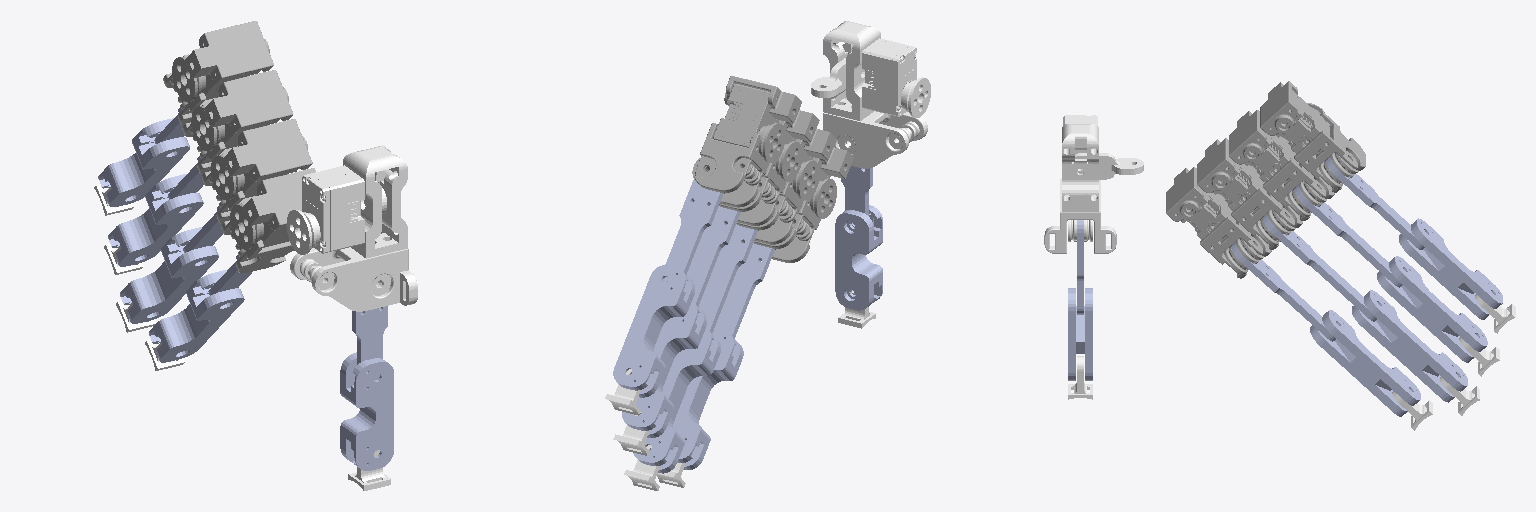
--- Render facts (derived) ---
The picture shows the robot from 3 angles, left to right: view 1: azimuth 30°, elevation 25°; view 2: azimuth 150°, elevation 25°; view 3: azimuth 270°, elevation 25°; orthographic projection.
Robot: DOGlove_Ver20241223 — 22 links, 21 joints (21 revolute); root link base_link; default pose: all joints at 0.
Visible links, largest first — view 1: thumb_split, pinky_split, ring_split, middle_split, thumb_bend_2, index_split, middle_bend_2, index_bend_2, ring_bend_2, pinky_bend_2, thumb_bend_3, middle_bend_3 (+3 smaller); view 2: thumb_split, pinky_split, pinky_bend_2, thumb_bend_2, middle_bend_2, ring_bend_2, index_bend_2, ring_split, index_split, middle_split, pinky_bend_3, middle_bend_3 (+8 smaller); view 3: pinky_split, thumb_split, middle_split, index_split, ring_split, middle_bend_2, ring_bend_2, index_bend_2, pinky_bend_2, thumb_bend_2, middle_bend_3, ring_bend_3 (+9 smaller).
Boxes of the visible links, <box> form: thumb_split: <box>287,145,417,311</box>; pinky_split: <box>163,21,273,125</box>; ring_split: <box>182,70,292,174</box>; middle_split: <box>202,119,312,223</box>; thumb_bend_2: <box>340,352,393,470</box>; index_split: <box>221,168,315,272</box>; middle_bend_2: <box>120,227,218,323</box>; index_bend_2: <box>149,270,244,362</box>; ring_bend_2: <box>108,174,203,266</box>; pinky_bend_2: <box>98,118,189,206</box>; thumb_bend_3: <box>352,306,387,380</box>; middle_bend_3: <box>183,206,222,252</box>; thumb_split: <box>823,21,930,168</box>; pinky_split: <box>692,76,801,207</box>; pinky_bend_2: <box>613,265,694,397</box>; thumb_bend_2: <box>835,205,882,310</box>; middle_bend_2: <box>633,328,720,473</box>; ring_bend_2: <box>622,301,706,437</box>; index_bend_2: <box>673,329,743,469</box>; ring_split: <box>719,110,819,225</box>; index_split: <box>753,147,853,262</box>; middle_split: <box>736,129,836,244</box>; pinky_bend_3: <box>663,180,723,282</box>; middle_bend_3: <box>699,224,757,332</box>; pinky_split: <box>1260,81,1365,192</box>; thumb_split: <box>1044,115,1116,253</box>; middle_split: <box>1197,138,1302,249</box>; index_split: <box>1166,167,1271,278</box>; ring_split: <box>1229,110,1334,220</box>; middle_bend_2: <box>1352,290,1467,402</box>; ring_bend_2: <box>1377,256,1487,362</box>; index_bend_2: <box>1310,310,1420,416</box>; pinky_bend_2: <box>1399,218,1502,319</box>; thumb_bend_2: <box>1068,288,1092,380</box>; middle_bend_3: <box>1262,214,1376,321</box>; ring_bend_3: <box>1294,185,1401,287</box>.
Bounding box of the posed robot: 0.054 × 0.2743 × 0.2108 m (x, y, z).
21 mesh visuals loaded from 22 distinct referenced files (21 binary STL); not drawn: 1 (reference not matched to a file when rendering).

robot.urdf — DOGlove_Ver20241223:
<?xml version="1.0" encoding="utf-8"?>
<!-- This URDF was automatically created by SolidWorks to URDF Exporter! Originally created by Stephen Brawner ([email redacted]) 
     Commit Version: 1.6.0-4-g7f85cfe  Build Version: 1.6.7995.38578
     For more information, please see http://wiki.ros.org/sw_urdf_exporter -->
<robot
  name="DOGlove_Ver20241223">
  <link
    name="base_link">
    <inertial>
      <origin
        xyz="-0.0240239529110336 -0.016382201418219 -0.0238366502311693"
        rpy="0 0 0" />
      <mass
        value="0.185697083197622" />
      <inertia
        ixx="0.000147340830920686"
        ixy="-2.24445846927294E-07"
        ixz="-5.2704899196788E-07"
        iyy="0.000107182443761882"
        iyz="-2.99883048741618E-05"
        izz="0.000106923484742146" />
    </inertial>
    <visual>
      <origin
        xyz="0 0 0"
        rpy="0 0 0" />
      <geometry>
        <mesh
          filename="package://DOGlove_Ver20241223/meshes/base_link.STL" />
      </geometry>
      <material
        name="">
        <color
          rgba="0.752941176470588 0.752941176470588 0.752941176470588 1" />
      </material>
    </visual>
    <collision>
      <origin
        xyz="0 0 0"
        rpy="0 0 0" />
      <geometry>
        <mesh
          filename="package://DOGlove_Ver20241223/meshes/base_link.STL" />
      </geometry>
    </collision>
  </link>
  <link
    name="index_split">
    <inertial>
      <origin
        xyz="2.01866500437742E-06 0.0196178970011489 -0.0272426373843988"
        rpy="0 0 0" />
      <mass
        value="0.0331994485719628" />
      <inertia
        ixx="3.66314950683702E-06"
        ixy="1.37497173358814E-09"
        ixz="-8.30682827652466E-11"
        iyy="2.76514617489481E-06"
        iyz="-1.19254141305384E-07"
        izz="3.44002932256614E-06" />
    </inertial>
    <visual>
      <origin
        xyz="0 0 0"
        rpy="0 0 0" />
      <geometry>
        <mesh
          filename="package://DOGlove_Ver20241223/meshes/index_split.STL" />
      </geometry>
      <material
        name="">
        <color
          rgba="0.752941176470588 0.752941176470588 0.752941176470588 1" />
      </material>
    </visual>
    <collision>
      <origin
        xyz="0 0 0"
        rpy="0 0 0" />
      <geometry>
        <mesh
          filename="package://DOGlove_Ver20241223/meshes/index_split.STL" />
      </geometry>
    </collision>
  </link>
  <joint
    name="index_split"
    type="revolute">
    <origin
      xyz="-0.0849999999999999 -0.0601040764008531 -0.104852813742388"
      rpy="-1.5707963267949 -0.785398163397448 1.5707963267949" />
    <parent
      link="base_link" />
    <child
      link="index_split" />
    <axis
      xyz="0 0 1" />
    <limit
      lower="0"
      upper="0.436"
      effort="0"
      velocity="0" />
  </joint>
  <link
    name="index_bend_3">
    <inertial>
      <origin
        xyz="-1.16573417585641E-15 0.0302786278809853 -3.00020989626656E-06"
        rpy="0 0 0" />
      <mass
        value="0.00454937532002053" />
      <inertia
        ixx="2.55133420659709E-06"
        ixy="1.80110727019002E-21"
        ixz="-4.85579070958808E-24"
        iyy="9.4581033217748E-08"
        iyz="5.42160219454352E-10"
        izz="2.4688848408994E-06" />
    </inertial>
    <visual>
      <origin
        xyz="0 0 0"
        rpy="0 0 0" />
      <geometry>
        <mesh
          filename="package://DOGlove_Ver20241223/meshes/index_bend_3.STL" />
      </geometry>
      <material
        name="">
        <color
          rgba="0.792156862745098 0.819607843137255 0.933333333333333 1" />
      </material>
    </visual>
    <collision>
      <origin
        xyz="0 0 0"
        rpy="0 0 0" />
      <geometry>
        <mesh
          filename="package://DOGlove_Ver20241223/meshes/index_bend_3.STL" />
      </geometry>
    </collision>
  </link>
  <joint
    name="index_bend_3"
    type="revolute">
    <origin
      xyz="0 0.045 -0.0365"
      rpy="0 0 0" />
    <parent
      link="index_split" />
    <child
      link="index_bend_3" />
    <axis
      xyz="1 0 0" />
    <limit
      lower="0"
      upper="1.16"
      effort="0"
      velocity="0" />
  </joint>
  <link
    name="index_bend_2">
    <inertial>
      <origin
        xyz="-0.000180674798107489 0.0299999999999998 -0.000190738564997725"
        rpy="0 0 0" />
      <mass
        value="0.013291543115275" />
      <inertia
        ixx="6.41792024574131E-06"
        ixy="3.52431846829924E-21"
        ixz="1.26137011841242E-08"
        iyy="7.34581376289825E-07"
        iyz="-1.48475733156398E-20"
        izz="6.29491184431296E-06" />
    </inertial>
    <visual>
      <origin
        xyz="0 0 0"
        rpy="0 0 0" />
      <geometry>
        <mesh
          filename="package://DOGlove_Ver20241223/meshes/index_bend_2.STL" />
      </geometry>
      <material
        name="">
        <color
          rgba="0.792156862745098 0.819607843137255 0.933333333333333 1" />
      </material>
    </visual>
    <collision>
      <origin
        xyz="0 0 0"
        rpy="0 0 0" />
      <geometry>
        <mesh
          filename="package://DOGlove_Ver20241223/meshes/index_bend_2.STL" />
      </geometry>
    </collision>
  </link>
  <joint
    name="index_bend_2"
    type="revolute">
    <origin
      xyz="0 0.07 0"
      rpy="0 0 0" />
    <parent
      link="index_bend_3" />
    <child
      link="index_bend_2" />
    <axis
      xyz="1 0 0" />
    <limit
      lower="-2.61"
      upper="0"
      effort="0"
      velocity="0" />
  </joint>
  <link
    name="index_bend_1">
    <inertial>
      <origin
        xyz="-1.11022302462516E-16 0.00880991685622767 -1.91166527052644E-15"
        rpy="0 0 0" />
      <mass
        value="0.00133489669454765" />
      <inertia
        ixx="8.22111891434235E-08"
        ixy="1.37432266737001E-22"
        ixz="4.54383881407306E-24"
        iyy="2.94528910697938E-08"
        iyz="2.94556258264916E-23"
        izz="7.27870591399113E-08" />
    </inertial>
    <visual>
      <origin
        xyz="0 0 0"
        rpy="0 0 0" />
      <geometry>
        <mesh
          filename="package://DOGlove_Ver20241223/meshes/index_bend_1.STL" />
      </geometry>
      <material
        name="">
        <color
          rgba="1 1 1 1" />
      </material>
    </visual>
    <collision>
      <origin
        xyz="0 0 0"
        rpy="0 0 0" />
      <geometry>
        <mesh
          filename="package://DOGlove_Ver20241223/meshes/index_bend_1.STL" />
      </geometry>
    </collision>
  </link>
  <joint
    name="index_bend_1"
    type="revolute">
    <origin
      xyz="0 0.06 0"
      rpy="0 0 0" />
    <parent
      link="index_bend_2" />
    <child
      link="index_bend_1" />
    <axis
      xyz="1 0 0" />
    <limit
      lower="-2.09"
      upper="0"
      effort="0"
      velocity="0" />
  </joint>
  <link
    name="middle_split">
    <inertial>
      <origin
        xyz="2.0201686107002E-06 0.0196179022547952 -0.027242637384398"
        rpy="0 0 0" />
      <mass
        value="0.0331994485719631" />
      <inertia
        ixx="3.66314957605039E-06"
        ixy="1.37495589971464E-09"
        ixz="-8.30705364884407E-11"
        iyy="2.76514610568145E-06"
        iyz="-1.19254295086775E-07"
        izz="3.44002932256614E-06" />
    </inertial>
    <visual>
      <origin
        xyz="0 0 0"
        rpy="0 0 0" />
      <geometry>
        <mesh
          filename="package://DOGlove_Ver20241223/meshes/middle_split.STL" />
      </geometry>
      <material
        name="">
        <color
          rgba="0.752941176470588 0.752941176470588 0.752941176470588 1" />
      </material>
    </visual>
    <collision>
      <origin
        xyz="0 0 0"
        rpy="0 0 0" />
      <geometry>
        <mesh
          filename="package://DOGlove_Ver20241223/meshes/middle_split.STL" />
      </geometry>
    </collision>
  </link>
  <joint
    name="middle_split"
    type="revolute">
    <origin
      xyz="-0.0849999999999999 -0.0417193000900034 -0.0864680374315374"
      rpy="-1.5707963267949 -0.785398163397448 1.5707963267949" />
    <parent
      link="base_link" />
    <child
      link="middle_split" />
    <axis
      xyz="0 0 1" />
    <limit
      lower="-0.087"
      upper="0.2615"
      effort="0"
      velocity="0" />
  </joint>
  <link
    name="middle_bend_3">
    <inertial>
      <origin
        xyz="6.19643225618915E-14 0.0339728289866728 -2.7666748464647E-06"
        rpy="0 0 0" />
      <mass
        value="0.00493337532002052" />
      <inertia
        ixx="3.35947498328153E-06"
        ixy="2.81188967626667E-22"
        ixz="-1.28515873339815E-24"
        iyy="9.97010364051885E-08"
        iyz="6.00930416831938E-10"
        izz="3.2729296143964E-06" />
    </inertial>
    <visual>
      <origin
        xyz="0 0 0"
        rpy="0 0 0" />
      <geometry>
        <mesh
          filename="package://DOGlove_Ver20241223/meshes/middle_bend_3.STL" />
      </geometry>
      <material
        name="">
        <color
          rgba="0.792156862745098 0.819607843137255 0.933333333333333 1" />
      </material>
    </visual>
    <collision>
      <origin
        xyz="0 0 0"
        rpy="0 0 0" />
      <geometry>
        <mesh
          filename="package://DOGlove_Ver20241223/meshes/middle_bend_3.STL" />
      </geometry>
    </collision>
  </link>
  <joint
    name="middle_bend_3"
    type="revolute">
    <origin
      xyz="0 0.045 -0.0365"
      rpy="0 0 0" />
    <parent
      link="middle_split" />
    <child
      link="middle_bend_3" />
    <axis
      xyz="1 0 0" />
    <limit
      lower="0"
      upper="1.15"
      effort="0"
      velocity="0" />
  </joint>
  <link
    name="middle_bend_2">
    <inertial>
      <origin
        xyz="-0.000171024427178729 0.0325000000110407 -0.000394202382995382"
        rpy="0 0 0" />
      <mass
        value="0.014041543115275" />
      <inertia
        ixx="7.76404219520716E-06"
        ixy="-9.01240653975475E-22"
        ixz="1.31023087504715E-08"
        iyy="7.65218620475344E-07"
        iyz="-7.92340462095867E-23"
        izz="7.63856789929909E-06" />
    </inertial>
    <visual>
      <origin
        xyz="0 0 0"
        rpy="0 0 0" />
      <geometry>
        <mesh
          filename="package://DOGlove_Ver20241223/meshes/middle_bend_2.STL" />
      </geometry>
      <material
        name="">
        <color
          rgba="0.792156862745098 0.819607843137255 0.933333333333333 1" />
      </material>
    </visual>
    <collision>
      <origin
        xyz="0 0 0"
        rpy="0 0 0" />
      <geometry>
        <mesh
          filename="package://DOGlove_Ver20241223/meshes/middle_bend_2.STL" />
      </geometry>
    </collision>
  </link>
  <joint
    name="middle_bend_2"
    type="revolute">
    <origin
      xyz="0 0.078 0"
      rpy="0 0 0" />
    <parent
      link="middle_bend_3" />
    <child
      link="middle_bend_2" />
    <axis
      xyz="1 0 0" />
    <limit
      lower="-2.44"
      upper="0"
      effort="0"
      velocity="0" />
  </joint>
  <link
    name="middle_bend_1">
    <inertial>
      <origin
        xyz="6.32410790402105E-14 0.0088099168675338 7.75712480360902E-12"
        rpy="0 0 0" />
      <mass
        value="0.00133489669454766" />
      <inertia
        ixx="8.22111891434235E-08"
        ixy="-5.27458181133971E-23"
        ixz="-4.6558356966251E-24"
        iyy="2.94528910697939E-08"
        iyz="-3.43188325210113E-23"
        izz="7.27870591399114E-08" />
    </inertial>
    <visual>
      <origin
        xyz="0 0 0"
        rpy="0 0 0" />
      <geometry>
        <mesh
          filename="package://DOGlove_Ver20241223/meshes/middle_bend_1.STL" />
      </geometry>
      <material
        name="">
        <color
          rgba="1 1 1 1" />
      </material>
    </visual>
    <collision>
      <origin
        xyz="0 0 0"
        rpy="0 0 0" />
      <geometry>
        <mesh
          filename="package://DOGlove_Ver20241223/meshes/middle_bend_1.STL" />
      </geometry>
    </collision>
  </link>
  <joint
    name="middle_bend_1"
    type="revolute">
    <origin
      xyz="0 0.065 0"
      rpy="0 0 0" />
    <parent
      link="middle_bend_2" />
    <child
      link="middle_bend_1" />
    <axis
      xyz="1 0 0" />
    <limit
      lower="-2.09"
      upper="0"
      effort="0"
      velocity="0" />
  </joint>
  <link
    name="ring_split">
    <inertial>
      <origin
        xyz="2.01959282369879E-06 0.0196179008908676 -0.0272426373843986"
        rpy="0 0 0" />
      <mass
        value="0.0331994485719624" />
      <inertia
        ixx="3.66314955751379E-06"
        ixy="1.37495843281239E-09"
        ixz="-8.30645747180209E-11"
        iyy="2.76514612421802E-06"
        iyz="-1.1925423409534E-07"
        izz="3.44002932256613E-06" />
    </inertial>
    <visual>
      <origin
        xyz="0 0 0"
        rpy="0 0 0" />
      <geometry>
        <mesh
          filename="package://DOGlove_Ver20241223/meshes/ring_split.STL" />
      </geometry>
      <material
        name="">
        <color
          rgba="0.752941176470588 0.752941176470588 0.752941176470588 1" />
      </material>
    </visual>
    <collision>
      <origin
        xyz="0 0 0"
        rpy="0 0 0" />
      <geometry>
        <mesh
          filename="package://DOGlove_Ver20241223/meshes/ring_split.STL" />
      </geometry>
    </collision>
  </link>
  <joint
    name="ring_split"
    type="revolute">
    <origin
      xyz="-0.085 -0.0233345237791538 -0.0680832611206866"
      rpy="-1.5707963267949 -0.785398163397448 1.5707963267949" />
    <parent
      link="base_link" />
    <child
      link="ring_split" />
    <axis
      xyz="0 0 1" />
    <limit
      lower="-0.1045"
      upper="0.052"
      effort="0"
      velocity="0" />
  </joint>
  <link
    name="ring_bend_3">
    <inertial>
      <origin
        xyz="0 0.0316580893023667 -2.90815882332887E-06"
        rpy="0 0 0" />
      <mass
        value="0.00469337532002052" />
      <inertia
        ixx="2.83677164830641E-06"
        ixy="-6.76683213174681E-24"
        ixz="-1.82502099050573E-22"
        iyy="9.65010344741603E-08"
        iyz="5.64279081530881E-10"
        izz="2.75278628135231E-06" />
    </inertial>
    <visual>
      <origin
        xyz="0 0 0"
        rpy="0 0 0" />
      <geometry>
        <mesh
          filename="package://DOGlove_Ver20241223/meshes/ring_bend_3.STL" />
      </geometry>
      <material
        name="">
        <color
          rgba="0.792156862745098 0.819607843137255 0.933333333333333 1" />
      </material>
    </visual>
    <collision>
      <origin
        xyz="0 0 0"
        rpy="0 0 0" />
      <geometry>
        <mesh
          filename="package://DOGlove_Ver20241223/meshes/ring_bend_3.STL" />
      </geometry>
    </collision>
  </link>
  <joint
    name="ring_bend_3"
    type="revolute">
    <origin
      xyz="0 0.045 -0.0365"
      rpy="0 0 0" />
    <parent
      link="ring_split" />
    <child
      link="ring_bend_3" />
    <axis
      xyz="1 0 0" />
    <limit
      lower="0"
      upper="1.15"
      effort="0"
      velocity="0" />
  </joint>
  <link
    name="ring_bend_2">
    <inertial>
      <origin
        xyz="-0.000180674798105157 0.03 -0.000190738564995879"
        rpy="0 0 0" />
      <mass
        value="0.013291543115275" />
      <inertia
        ixx="6.4179202457413E-06"
        ixy="-2.16977151281935E-21"
        ixz="1.26137011841237E-08"
        iyy="7.34581376289824E-07"
        iyz="-2.29853298641343E-22"
        izz="6.29491184431295E-06" />
    </inertial>
    <visual>
      <origin
        xyz="0 0 0"
        rpy="0 0 0" />
      <geometry>
        <mesh
          filename="package://DOGlove_Ver20241223/meshes/ring_bend_2.STL" />
      </geometry>
      <material
        name="">
        <color
          rgba="0.792156862745098 0.819607843137255 0.933333333333333 1" />
      </material>
    </visual>
    <collision>
      <origin
        xyz="0 0 0"
        rpy="0 0 0" />
      <geometry>
        <mesh
          filename="package://DOGlove_Ver20241223/meshes/ring_bend_2.STL" />
      </geometry>
    </collision>
  </link>
  <joint
    name="ring_bend_2"
    type="revolute">
    <origin
      xyz="0 0.073 0"
      rpy="0 0 0" />
    <parent
      link="ring_bend_3" />
    <child
      link="ring_bend_2" />
    <axis
      xyz="1 0 0" />
    <limit
      lower="-2.61"
      upper="0"
      effort="0"
      velocity="0" />
  </joint>
  <link
    name="ring_bend_1">
    <inertial>
      <origin
        xyz="-4.16333634234434E-16 0.00880991685622662 -7.35522753814166E-16"
        rpy="0 0 0" />
      <mass
        value="0.00133489669454765" />
      <inertia
        ixx="8.22111891434228E-08"
        ixy="2.29887684869804E-23"
        ixz="1.40378144709786E-16"
        iyy="2.94528910697939E-08"
        iyz="4.50356252151534E-23"
        izz="7.27870591399107E-08" />
    </inertial>
    <visual>
      <origin
        xyz="0 0 0"
        rpy="0 0 0" />
      <geometry>
        <mesh
          filename="package://DOGlove_Ver20241223/meshes/ring_bend_1.STL" />
      </geometry>
      <material
        name="">
        <color
          rgba="1 1 1 1" />
      </material>
    </visual>
    <collision>
      <origin
        xyz="0 0 0"
        rpy="0 0 0" />
      <geometry>
        <mesh
          filename="package://DOGlove_Ver20241223/meshes/ring_bend_1.STL" />
      </geometry>
    </collision>
  </link>
  <joint
    name="ring_bend_1"
    type="revolute">
    <origin
      xyz="0 0.06 0"
      rpy="0 0 0" />
    <parent
      link="ring_bend_2" />
    <child
      link="ring_bend_1" />
    <axis
      xyz="1 0 0" />
    <limit
      lower="-2.09"
      upper="0"
      effort="0"
      velocity="0" />
  </joint>
  <link
    name="pinky_split">
    <inertial>
      <origin
        xyz="2.02065542823787E-06 0.0196179032776091 -0.027242633824687"
        rpy="0 0 0" />
      <mass
        value="0.0331994485719634" />
      <inertia
        ixx="3.66314958861178E-06"
        ixy="1.37494805011746E-09"
        ixz="-8.30762740817502E-11"
        iyy="2.76514609382053E-06"
        iyz="-1.19253970681125E-07"
        izz="3.44002932186568E-06" />
    </inertial>
    <visual>
      <origin
        xyz="0 0 0"
        rpy="0 0 0" />
      <geometry>
        <mesh
          filename="package://DOGlove_Ver20241223/meshes/pinky_split.STL" />
      </geometry>
      <material
        name="">
        <color
          rgba="0.752941176470588 0.752941176470588 0.752941176470588 1" />
      </material>
    </visual>
    <collision>
      <origin
        xyz="0 0 0"
        rpy="0 0 0" />
      <geometry>
        <mesh
          filename="package://DOGlove_Ver20241223/meshes/pinky_split.STL" />
      </geometry>
    </collision>
  </link>
  <joint
    name="pinky_split"
    type="revolute">
    <origin
      xyz="-0.085 -0.0049497 -0.049698"
      rpy="-1.5708 -0.7854 1.5708" />
    <parent
      link="base_link" />
    <child
      link="pinky_split" />
    <axis
      xyz="0 0 1" />
    <limit
      lower="-0.227"
      upper="0"
      effort="0"
      velocity="0" />
  </joint>
  <link
    name="pinky_bend_3">
    <inertial>
      <origin
        xyz="-5.64825963778048E-15 0.0279974271067274 -3.16729908511268E-06"
        rpy="0 0 0" />
      <mass
        value="0.00430937532002052" />
      <inertia
        ixx="2.12045893255717E-06"
        ixy="-1.43708731397769E-22"
        ixz="1.01839564911708E-23"
        iyy="9.13810309371329E-08"
        iyz="5.05051109012633E-10"
        izz="2.04056956914009E-06" />
    </inertial>
    <visual>
      <origin
        xyz="0 0 0"
        rpy="0 0 0" />
      <geometry>
        <mesh
          filename="package://DOGlove_Ver20241223/meshes/pinky_bend_3.STL" />
      </geometry>
      <material
        name="">
        <color
          rgba="0.792156862745098 0.819607843137255 0.933333333333333 1" />
      </material>
    </visual>
    <collision>
      <origin
        xyz="0 0 0"
        rpy="0 0 0" />
      <geometry>
        <mesh
          filename="package://DOGlove_Ver20241223/meshes/pinky_bend_3.STL" />
      </geometry>
    </collision>
  </link>
  <joint
    name="pinky_bend_3"
    type="revolute">
    <origin
      xyz="0 0.045 -0.0365"
      rpy="0 0 0" />
    <parent
      link="pinky_split" />
    <child
      link="pinky_bend_3" />
    <axis
      xyz="1 0 0" />
    <limit
      lower="0"
      upper="1.14"
      effort="0"
      velocity="0" />
  </joint>
  <link
    name="pinky_bend_2">
    <inertial>
      <origin
        xyz="-0.000191479377526345 0.0275000000000266 3.70600440735037E-05"
        rpy="0 0 0" />
      <mass
        value="0.012541543115275" />
      <inertia
        ixx="5.23671049169671E-06"
        ixy="1.35899384881527E-21"
        ixz="1.20666549278338E-08"
        iyy="7.02709266814131E-07"
        iyz="-1.2262495320023E-21"
        izz="5.11739730649724E-06" />
    </inertial>
    <visual>
      <origin
        xyz="0 0 0"
        rpy="0 0 0" />
      <geometry>
        <mesh
          filename="package://DOGlove_Ver20241223/meshes/pinky_bend_2.STL" />
      </geometry>
      <material
        name="">
        <color
          rgba="0.792156862745098 0.819607843137255 0.933333333333333 1" />
      </material>
    </visual>
    <collision>
      <origin
        xyz="0 0 0"
        rpy="0 0 0" />
      <geometry>
        <mesh
          filename="package://DOGlove_Ver20241223/meshes/pinky_bend_2.STL" />
      </geometry>
    </collision>
  </link>
  <joint
    name="pinky_bend_2"
    type="revolute">
    <origin
      xyz="0 0.065 0"
      rpy="0 0 0" />
    <parent
      link="pinky_bend_3" />
    <child
      link="pinky_bend_2" />
    <axis
      xyz="1 0 0" />
    <limit
      lower="-2.44"
      upper="0"
      effort="0"
      velocity="0" />
  </joint>
  <link
    name="pinky_bend_1">
    <inertial>
      <origin
        xyz="-9.08995101411847E-16 0.00880991685622626 -2.65412691824451E-15"
        rpy="0 0 0" />
      <mass
        value="0.00133489669454765" />
      <inertia
        ixx="8.22111891434224E-08"
        ixy="-8.75164914770004E-24"
        ixz="1.77780087201178E-23"
        iyy="2.94528910697938E-08"
        iyz="-1.32005806176692E-23"
        izz="7.27870591399103E-08" />
    </inertial>
    <visual>
      <origin
        xyz="0 0 0"
        rpy="0 0 0" />
      <geometry>
        <mesh
          filename="package://DOGlove_Ver20241223/meshes/pinky_bend_1.STL" />
      </geometry>
      <material
        name="">
        <color
          rgba="1 1 1 1" />
      </material>
    </visual>
    <collision>
      <origin
        xyz="0 0 0"
        rpy="0 0 0" />
      <geometry>
        <mesh
          filename="package://DOGlove_Ver20241223/meshes/pinky_bend_1.STL" />
      </geometry>
    </collision>
  </link>
  <joint
    name="pinky_bend_1"
    type="revolute">
    <origin
      xyz="0 0.055 0"
      rpy="0 0 0" />
    <parent
      link="pinky_bend_2" />
    <child
      link="pinky_bend_1" />
    <axis
      xyz="1 0 0" />
    <limit
      lower="-2.09"
      upper="0"
      effort="0"
      velocity="0" />
  </joint>
  <link
    name="thumb_mcp">
    <inertial>
      <origin
        xyz="-0.0166423926604196 4.56217008615312E-12 2.09714190457788E-13"
        rpy="0 0 0" />
      <mass
        value="0.00237390284186762" />
      <inertia
        ixx="4.40151657421709E-08"
        ixy="3.12674271545044E-22"
        ixz="-1.61200140646868E-22"
        iyy="3.63646287396663E-07"
        iyz="2.34190486684522E-23"
        izz="3.75289349007021E-07" />
    </inertial>
    <visual>
      <origin
        xyz="0 0 0"
        rpy="0 0 0" />
      <geometry>
        <mesh
          filename="package://DOGlove_Ver20241223/meshes/thumb_mcp.STL" />
      </geometry>
      <material
        name="">
        <color
          rgba="1 1 1 1" />
      </material>
    </visual>
    <collision>
      <origin
        xyz="0 0 0"
        rpy="0 0 0" />
      <geometry>
        <mesh
          filename="package://DOGlove_Ver20241223/meshes/thumb_mcp.STL" />
      </geometry>
    </collision>
  </link>
  <joint
    name="thumb_mcp"
    type="revolute">
    <origin
      xyz="-0.0475 -0.092589 -0.07964"
      rpy="-1.5708 0 1.5708" />
    <parent
      link="base_link" />
    <child
      link="thumb_mcp" />
    <axis
      xyz="0 1 0" />
    <limit
      lower="-2"
      upper="0.87"
      effort="0"
      velocity="0" />
  </joint>
  <link
    name="thumb_split">
    <inertial>
      <origin
        xyz="7.69024561023124E-06 0.0124341534139221 0.00469169349333174"
        rpy="0 0 0" />
      <mass
        value="0.0433016003527795" />
      <inertia
        ixx="7.83008382801777E-06"
        ixy="2.48944120511655E-09"
        ixz="9.87052239099518E-10"
        iyy="5.01445255091582E-06"
        iyz="2.41270188370947E-07"
        izz="7.10630433373263E-06" />
    </inertial>
    <visual>
      <origin
        xyz="0 0 0"
        rpy="0 0 0" />
      <geometry>
        <mesh
          filename="package://DOGlove_Ver20241223/meshes/thumb_split.STL" />
      </geometry>
      <material
        name="">
        <color
          rgba="1 1 1 1" />
      </material>
    </visual>
    <collision>
      <origin
        xyz="0 0 0"
        rpy="0 0 0" />
      <geometry>
        <mesh
          filename="package://DOGlove_Ver20241223/meshes/thumb_split.STL" />
      </geometry>
    </collision>
  </link>
  <joint
    name="thumb_split"
    type="revolute">
    <origin
      xyz="-0.031 0 0.0075"
      rpy="0 0 0" />
    <parent
      link="thumb_mcp" />
    <child
      link="thumb_split" />
    <axis
      xyz="0 0 -1" />
    <limit
      lower="-0.52"
      upper="0.87"
      effort="0"
      velocity="0" />
  </joint>
  <link
    name="thumb_bend_3">
    <inertial>
      <origin
        xyz="1.74860126378462E-15 0.0213293822872752 3.80263406052697E-06"
        rpy="0 0 0" />
      <mass
        value="0.00358937532002052" />
      <inertia
        ixx="1.13589849543929E-06"
        ixy="-6.18731098189665E-22"
        ixz="1.04948540217665E-23"
        iyy="8.17810222653955E-08"
        iyz="-3.91327579126992E-10"
        izz="1.06368914069395E-06" />
    </inertial>
    <visual>
      <origin
        xyz="0 0 0"
        rpy="0 0 0" />
      <geometry>
        <mesh
          filename="package://DOGlove_Ver20241223/meshes/thumb_bend_3.STL" />
      </geometry>
      <material
        name="">
        <color
          rgba="0.792156862745098 0.819607843137255 0.933333333333333 1" />
      </material>
    </visual>
    <collision>
      <origin
        xyz="0 0 0"
        rpy="0 0 0" />
      <geometry>
        <mesh
          filename="package://DOGlove_Ver20241223/meshes/thumb_bend_3.STL" />
      </geometry>
    </collision>
  </link>
  <joint
    name="thumb_bend_3"
    type="revolute">
    <origin
      xyz="0 0.04 -0.0045"
      rpy="0 0 0" />
    <parent
      link="thumb_split" />
    <child
      link="thumb_bend_3" />
    <axis
      xyz="1 0 0" />
    <limit
      lower="0"
      upper="1.54"
      effort="0"
      velocity="0" />
  </joint>
  <link
    name="thumb_bend_2">
    <inertial>
      <origin
        xyz="0.0022391766401616 0.0200000000000011 0.000862214503560582"
        rpy="0 0 0" />
      <mass
        value="0.01004047413339" />
      <inertia
        ixx="2.57982610993166E-06"
        ixy="6.67038445962762E-21"
        ixz="-1.00850903345845E-08"
        iyy="5.90238899375537E-07"
        iyz="4.00686288720687E-21"
        izz="2.47896361490138E-06" />
    </inertial>
    <visual>
      <origin
        xyz="0 0 0"
        rpy="0 0 0" />
      <geometry>
        <mesh
          filename="package://DOGlove_Ver20241223/meshes/thumb_bend_2.STL" />
      </geometry>
      <material
        name="">
        <color
          rgba="0.792156862745098 0.819607843137255 0.933333333333333 1" />
      </material>
    </visual>
    <collision>
      <origin
        xyz="0 0 0"
        rpy="0 0 0" />
      <geometry>
        <mesh
          filename="package://DOGlove_Ver20241223/meshes/thumb_bend_2.STL" />
      </geometry>
    </collision>
  </link>
  <joint
    name="thumb_bend_2"
    type="revolute">
    <origin
      xyz="-0.002 0.05 0"
      rpy="0 0 0" />
    <parent
      link="thumb_bend_3" />
    <child
      link="thumb_bend_2" />
    <axis
      xyz="1 0 0" />
    <limit
      lower="-2.44"
      upper="0"
      effort="0"
      velocity="0" />
  </joint>
  <link
    name="thumb_bend_1">
    <inertial>
      <origin
        xyz="2.63677968348475E-15 0.00880991685622892 -7.97972798949331E-17"
        rpy="0 0 0" />
      <mass
        value="0.00133489669454765" />
      <inertia
        ixx="8.22111891434225E-08"
        ixy="-1.81979734761666E-23"
        ixz="1.34291612231887E-23"
        iyy="2.94528910697938E-08"
        iyz="4.85528297571195E-23"
        izz="7.27870591399104E-08" />
    </inertial>
    <visual>
      <origin
        xyz="0 0 0"
        rpy="0 0 0" />
      <geometry>
        <mesh
          filename="package://DOGlove_Ver20241223/meshes/thumb_bend_1.STL" />
      </geometry>
      <material
        name="">
        <color
          rgba="1 1 1 1" />
      </material>
    </visual>
    <collision>
      <origin
        xyz="0 0 0"
        rpy="0 0 0" />
      <geometry>
        <mesh
          filename="package://DOGlove_Ver20241223/meshes/thumb_bend_1.STL" />
      </geometry>
    </collision>
  </link>
  <joint
    name="thumb_bend_1"
    type="revolute">
    <origin
      xyz="0.002 0.04 0"
      rpy="0 0 0" />
    <parent
      link="thumb_bend_2" />
    <child
      link="thumb_bend_1" />
    <axis
      xyz="1 0 0" />
    <limit
      lower="-1.83"
      upper="0"
      effort="0"
      velocity="0" />
  </joint>
</robot>
